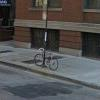Bicycle: (31, 43, 60, 74)
